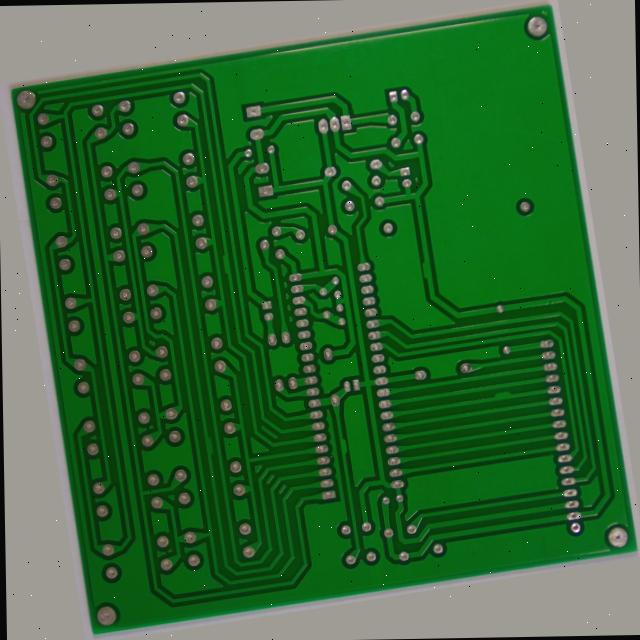spur: (216, 225, 231, 257), (319, 449, 334, 479), (439, 265, 454, 293), (498, 423, 523, 439), (169, 428, 182, 457)
